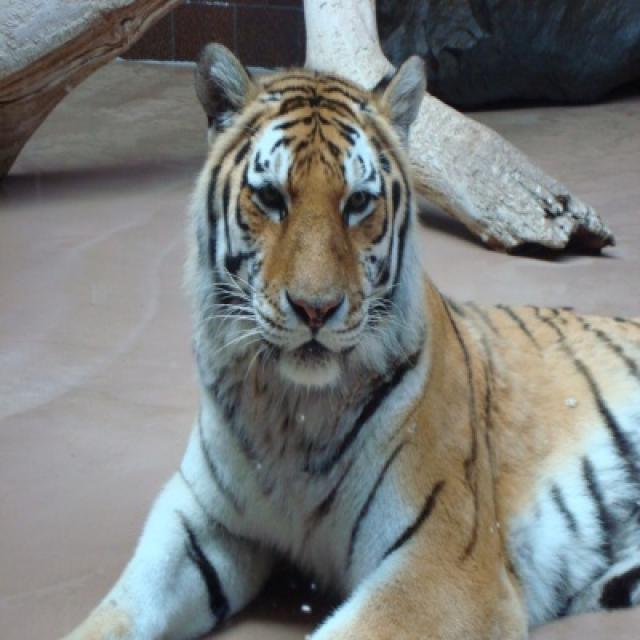Tiger: (66, 43, 638, 638)
